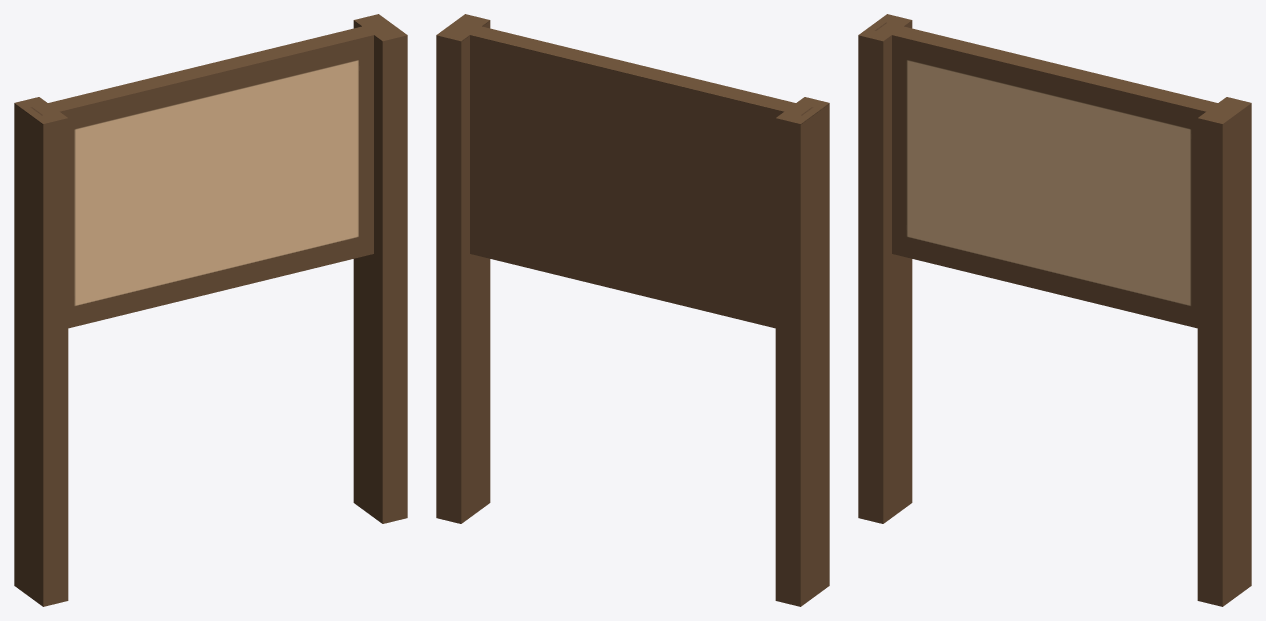
Rendered from Quest sign.fbx.
3 views of the same model, side by side, from view 1: azimuth 30°, elevation 25°; view 2: azimuth 150°, elevation 25°; view 3: azimuth 330°, elevation 25° (orthographic).
Visible parts, largest first — view 1: Cube.151; view 2: Cube.151; view 3: Cube.151.
Boxes of the visible parts, x1,y1,x2,y2 form: Cube.151: [14, 14, 407, 606]; Cube.151: [436, 14, 829, 606]; Cube.151: [858, 14, 1251, 606].
Size of the model in its own units: 265 by 335 by 36.54.
